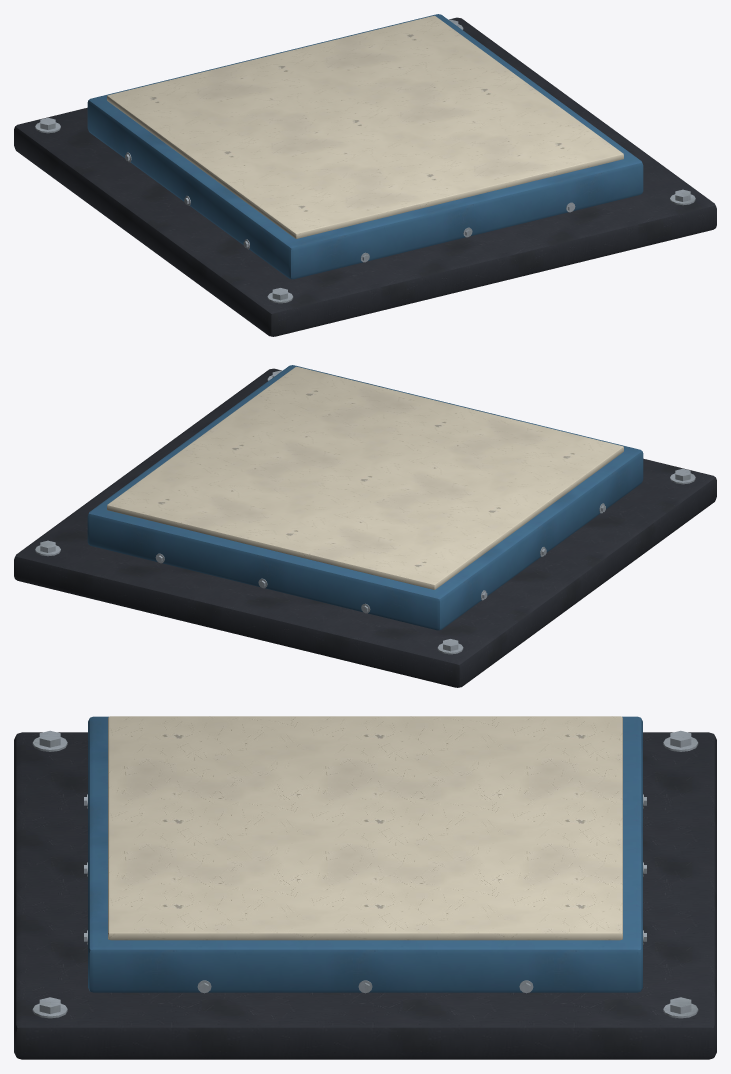
File: support_pillar_stand.glb
3 renders of one model, top to bottom at view 1: azimuth 30°, elevation 25°; view 2: azimuth 150°, elevation 25°; view 3: azimuth 270°, elevation 25°, orthographic. The views are drawn at different scales.
Parts seen in each view (by area): view 1: Body.002; view 2: Body.002; view 3: Body.002.
Boxes of the visible parts, <box> form: Body.002: <box>14,14,716,336</box>; Body.002: <box>14,365,716,687</box>; Body.002: <box>14,716,716,1059</box>.
Bounding box in the file's own units: 1.75 × 0.247 × 1.75.
4 materials, 4 textured.
